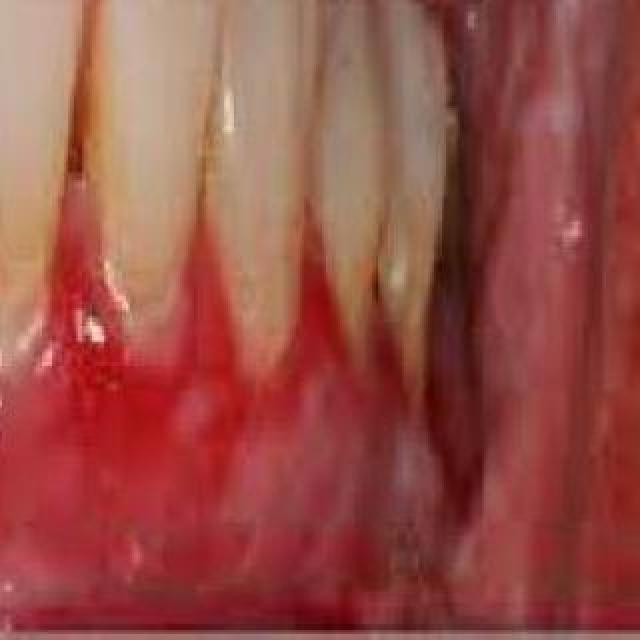plaque: (181, 224, 337, 414), (309, 217, 447, 381), (0, 102, 56, 328)
stains: (52, 0, 118, 188)
